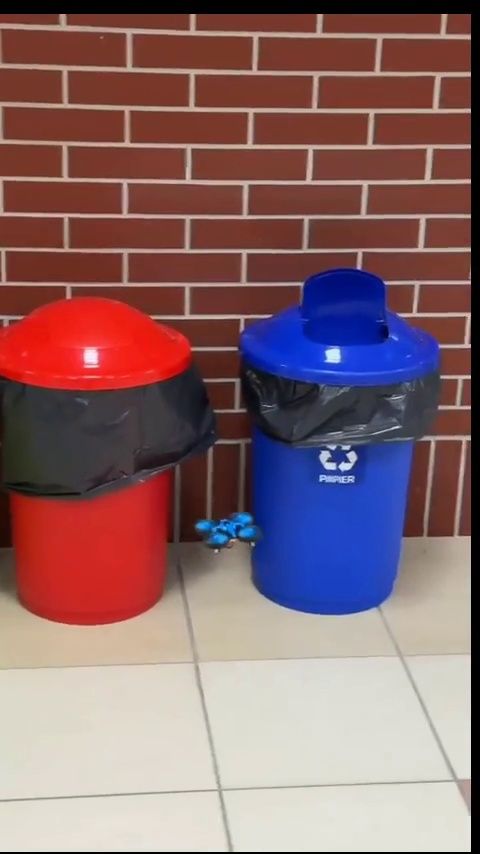drone: (195, 513, 257, 553)
